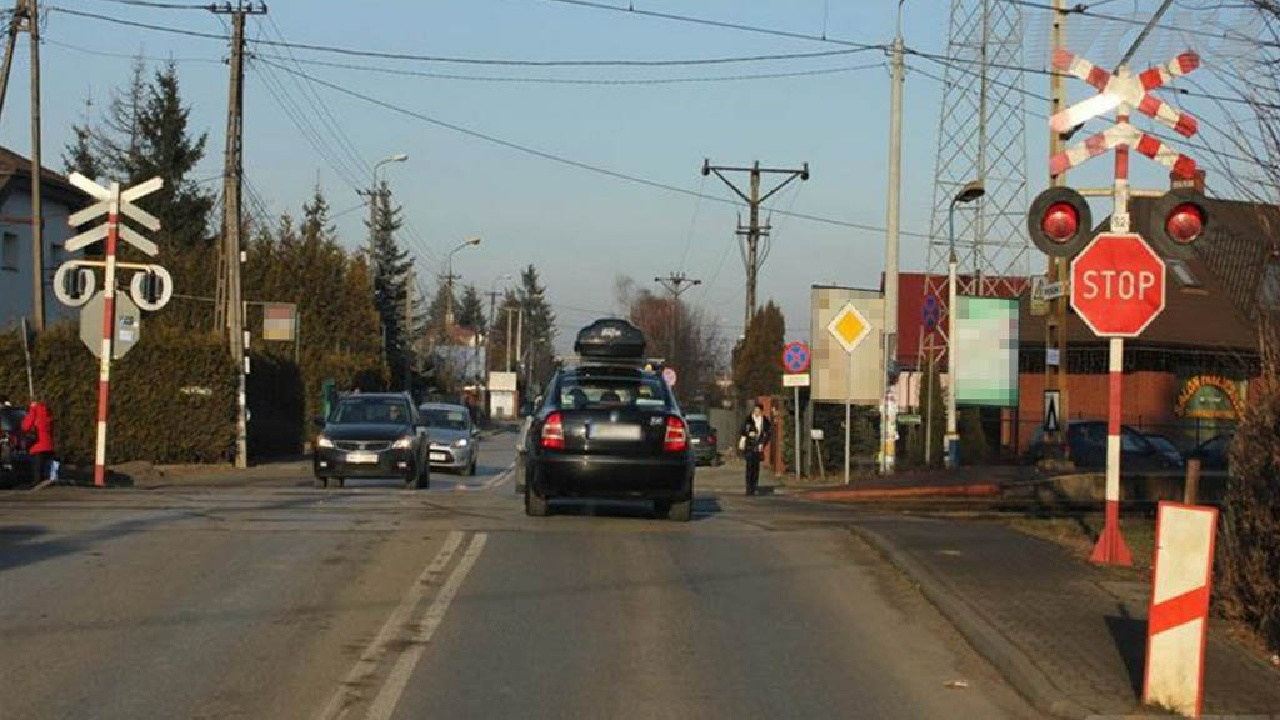B20: (1068, 232, 1166, 338)
B36: (782, 342, 810, 373), (922, 295, 940, 332)
D1: (828, 302, 872, 351)
